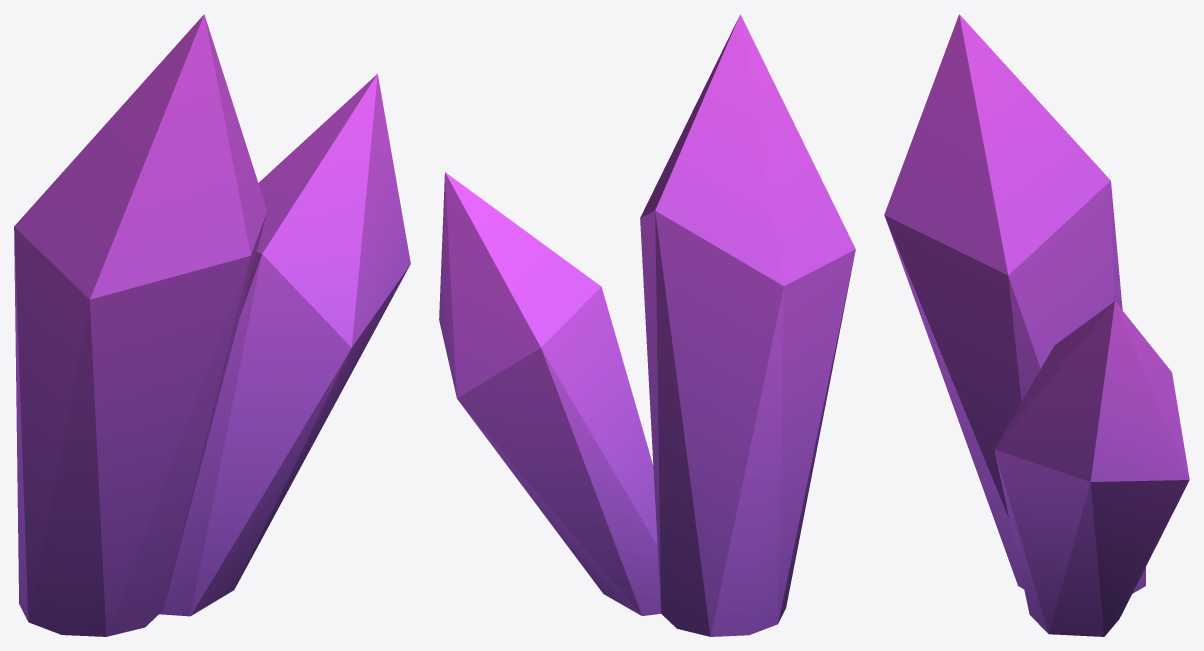
Rendered from Crystal_purple_03.fbx.
3 renders of one model, left to right at view 1: azimuth 30°, elevation 25°; view 2: azimuth 150°, elevation 25°; view 3: azimuth 270°, elevation 25°, orthographic. The views are drawn at different scales.
Visible parts, largest first — view 1: Crystal_purple_03; view 2: Crystal_purple_03; view 3: Crystal_purple_03.
Boxes of the visible parts, bbox=[...] form: Crystal_purple_03: bbox=[14, 14, 410, 636]; Crystal_purple_03: bbox=[439, 14, 855, 636]; Crystal_purple_03: bbox=[884, 14, 1189, 636].
Size of the model in its own units: 108 by 165 by 76.63.
